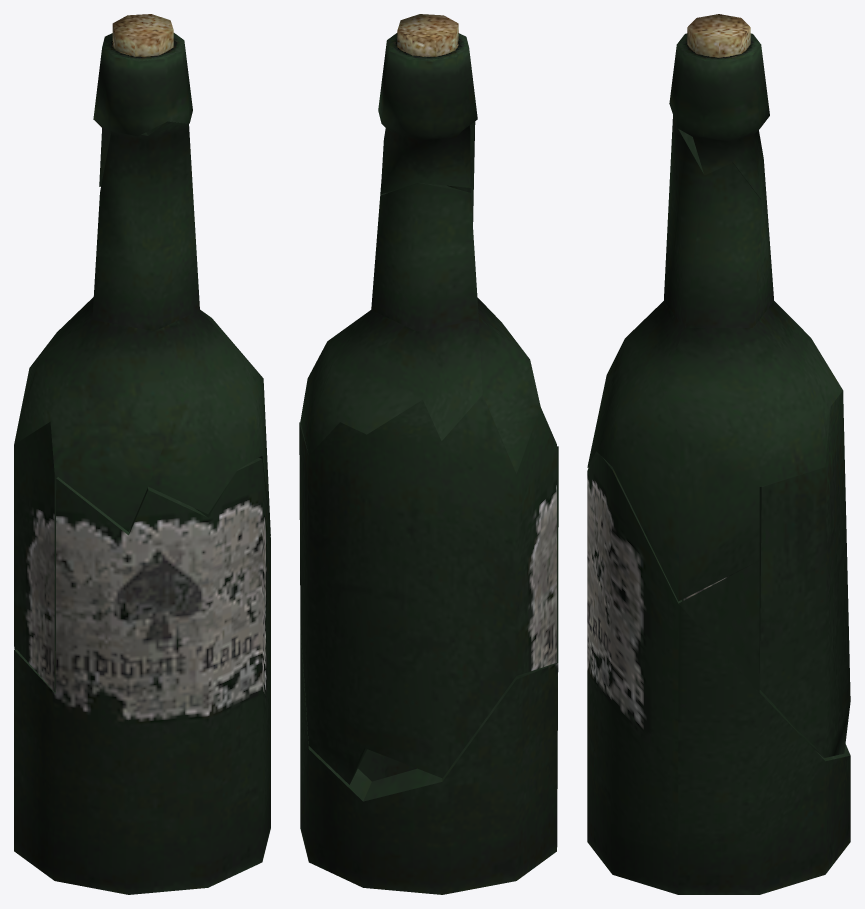
File: wine02_broken.dae
The picture shows the model from 3 angles, left to right: view 1: azimuth 30°, elevation 25°; view 2: azimuth 150°, elevation 25°; view 3: azimuth 270°, elevation 25°; orthographic projection.
Visible parts, largest first — view 1: wine01_broken01, wine01_broken03, wine01_broken02, wine01_broken04; view 2: wine01_broken02, wine01_broken01, wine01_broken03, wine01_broken04; view 3: wine01_broken01, wine01_broken03, wine01_broken02, wine01_broken04.
Boxes of the visible parts, left/top/right/bottom form: wine01_broken01: left=14, top=458, right=270, bottom=894; wine01_broken03: left=14, top=121, right=270, bottom=535; wine01_broken02: left=14, top=359, right=199, bottom=692; wine01_broken04: left=93, top=14, right=192, bottom=186; wine01_broken02: left=299, top=395, right=556, bottom=784; wine01_broken01: left=300, top=446, right=558, bottom=894; wine01_broken03: left=300, top=121, right=540, bottom=473; wine01_broken04: left=378, top=14, right=477, bottom=193; wine01_broken01: left=587, top=455, right=850, bottom=894; wine01_broken03: left=587, top=115, right=842, bottom=601; wine01_broken02: left=683, top=390, right=850, bottom=757; wine01_broken04: left=669, top=14, right=769, bottom=198.
Size of the model in its own units: 0.0964 by 0.3461 by 0.1013.
